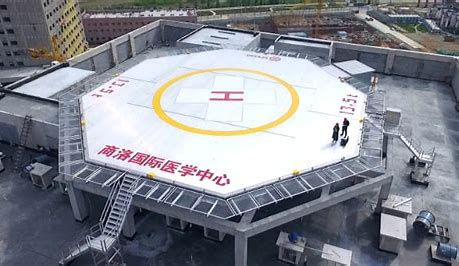H: (209, 91, 245, 102)
